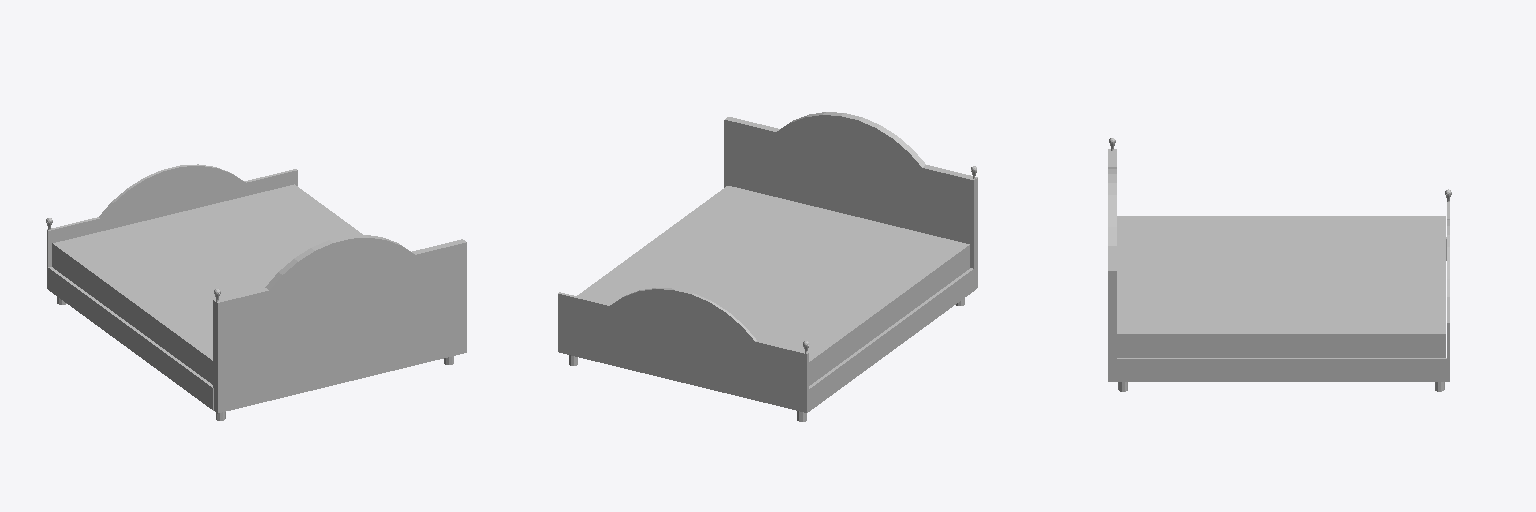
The model's file is bed.obj.
3 views of the same model, side by side, from view 1: azimuth 30°, elevation 25°; view 2: azimuth 150°, elevation 25°; view 3: azimuth 270°, elevation 25° (orthographic).
Visible parts, largest first — view 1: Beds; view 2: Beds; view 3: Beds.
Boxes of the visible parts, box(x1,y1,x2,y2) form: Beds: box(46, 164, 466, 420); Beds: box(558, 112, 977, 421); Beds: box(1108, 138, 1451, 391).
Bounding box in the file's own units: 3.44 × 2.04 × 4.08.